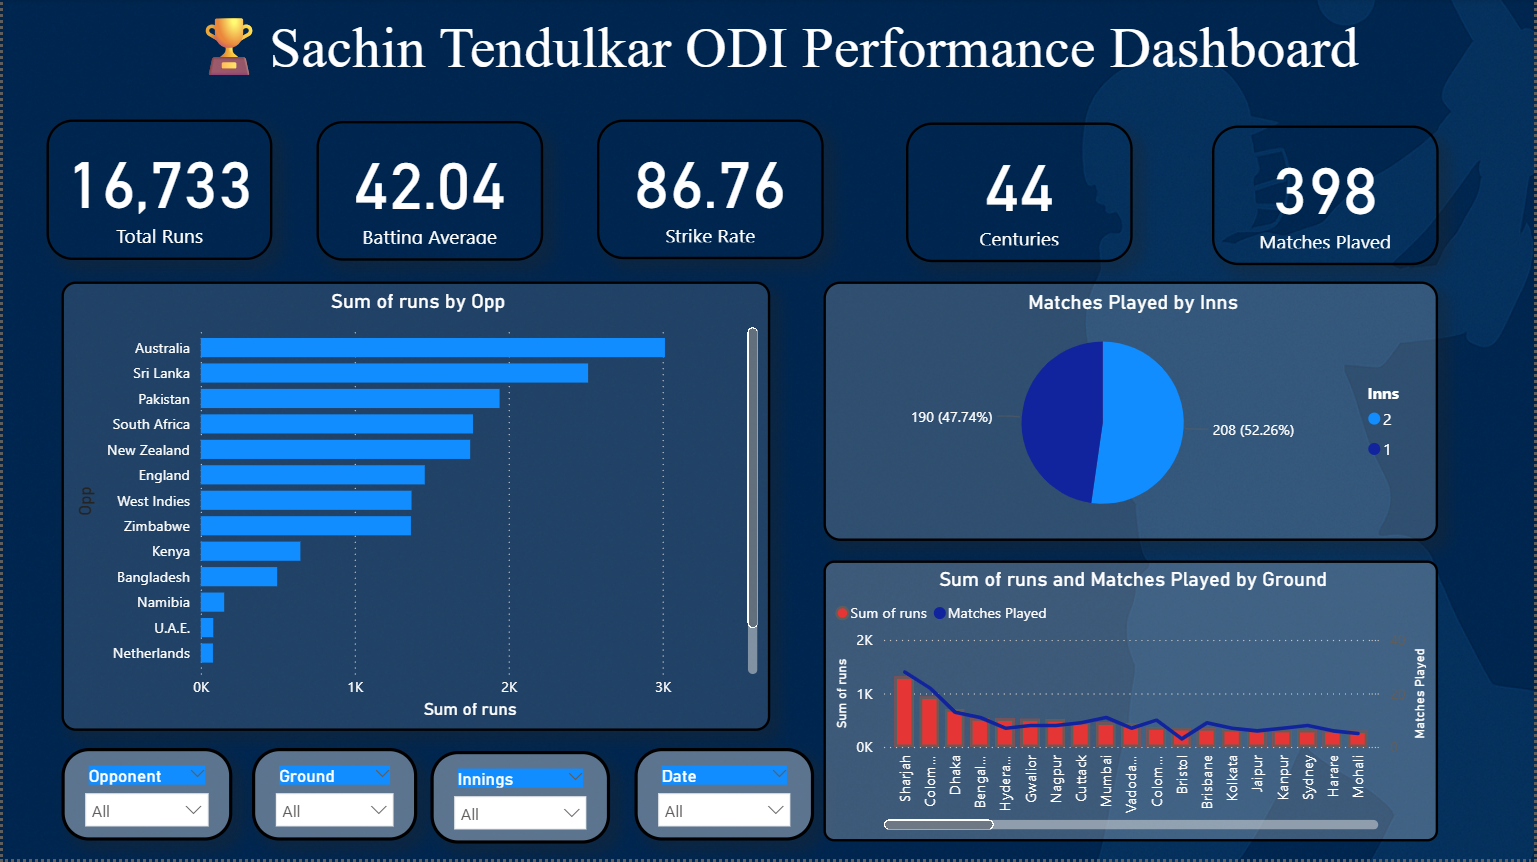

The dashboard page shown, as its layout file describes it:
{"tool":"powerbi","page":{"name":"Page 1","canvas":[1280,720],"ordinal":0},"visuals":[{"type":"textbox","box":[10.6,0,1268.9,101.5],"z":0},{"type":"card","fields":{"Values":["Dim_Date.Total Runs"]},"box":[35.9,102,189,117.2],"z":1},{"type":"card","fields":{"Values":["Dim_Date.Batting Average"]},"box":[262,103,189.3,116.6],"z":7},{"type":"card","fields":{"Values":["Dim_Date.Strike Rate"]},"box":[496.7,101.5,189.3,116.6],"z":8},{"type":"card","fields":{"Values":["Dim_Date.Centuries"]},"box":[754.1,104.5,189.3,116.6],"z":9},{"type":"card","fields":{"Values":["Dim_Date.Matches Played"]},"box":[1010,106,189.3,116.6],"z":10},{"type":"pieChart","fields":{"Category":["Dim_Inns.Inns"],"Y":["Dim_Date.Matches Played"]},"box":[685.9,236.2,513.3,216.5],"z":11},{"type":"barChart","fields":{"Category":["Dim_Opp.Opp"],"Y":["Sum(Fact_Sachin.runs)"]},"box":[48.5,236.2,592.1,375.5],"z":12},{"type":"slicer","fields":{"Values":["Dim_Opp.Opp"]},"box":[48.5,626.9,142.3,77.2],"z":14},{"type":"slicer","fields":{"Values":["Dim_Ground.Ground"]},"box":[207.4,626.9,137.8,77.2],"z":15},{"type":"slicer","fields":{"Values":["Dim_Inns.Inns"]},"box":[357.4,628.4,149.9,77.2],"z":16},{"type":"slicer","fields":{"Values":["Dim_Date.Date"]},"box":[526.9,626.9,149.9,77.2],"z":17},{"type":"lineClusteredColumnComboChart","fields":{"Category":["Dim_Ground.Ground"],"Y":["Sum(Fact_Sachin.runs)"],"Y2":["Dim_Date.Matches Played"]},"box":[685.9,469.4,513.3,234.7],"z":18}]}

Visuals, with their boxes in screenshot pixels (x1, y1, x2, y2), scaled from the page's 1280x720 canvas onto the 1537x862 screenshot:
textbox: locate(13, 0, 1536, 122)
card - Dim_Date.Total Runs: locate(43, 122, 270, 262)
card - Dim_Date.Batting Average: locate(315, 123, 542, 263)
card - Dim_Date.Strike Rate: locate(596, 122, 824, 261)
card - Dim_Date.Centuries: locate(906, 125, 1133, 265)
card - Dim_Date.Matches Played: locate(1213, 127, 1440, 267)
pieChart - Dim_Inns.Inns x Dim_Date.Matches Played: locate(824, 283, 1440, 542)
barChart - Dim_Opp.Opp x Sum(Fact_Sachin.runs): locate(58, 283, 769, 732)
slicer - Dim_Opp.Opp: locate(58, 751, 229, 843)
slicer - Dim_Ground.Ground: locate(249, 751, 415, 843)
slicer - Dim_Inns.Inns: locate(429, 752, 609, 845)
slicer - Dim_Date.Date: locate(633, 751, 813, 843)
lineClusteredColumnComboChart - Dim_Ground.Ground x Sum(Fact_Sachin.runs): locate(824, 562, 1440, 843)
